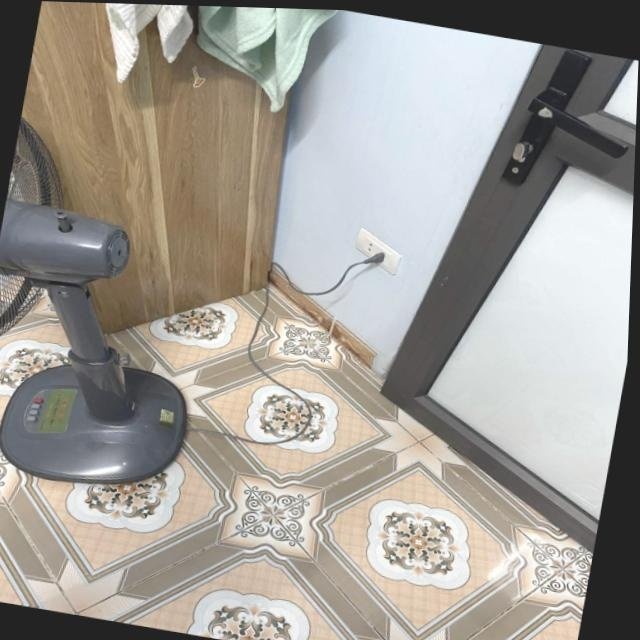outlet: (350, 226, 407, 277)
